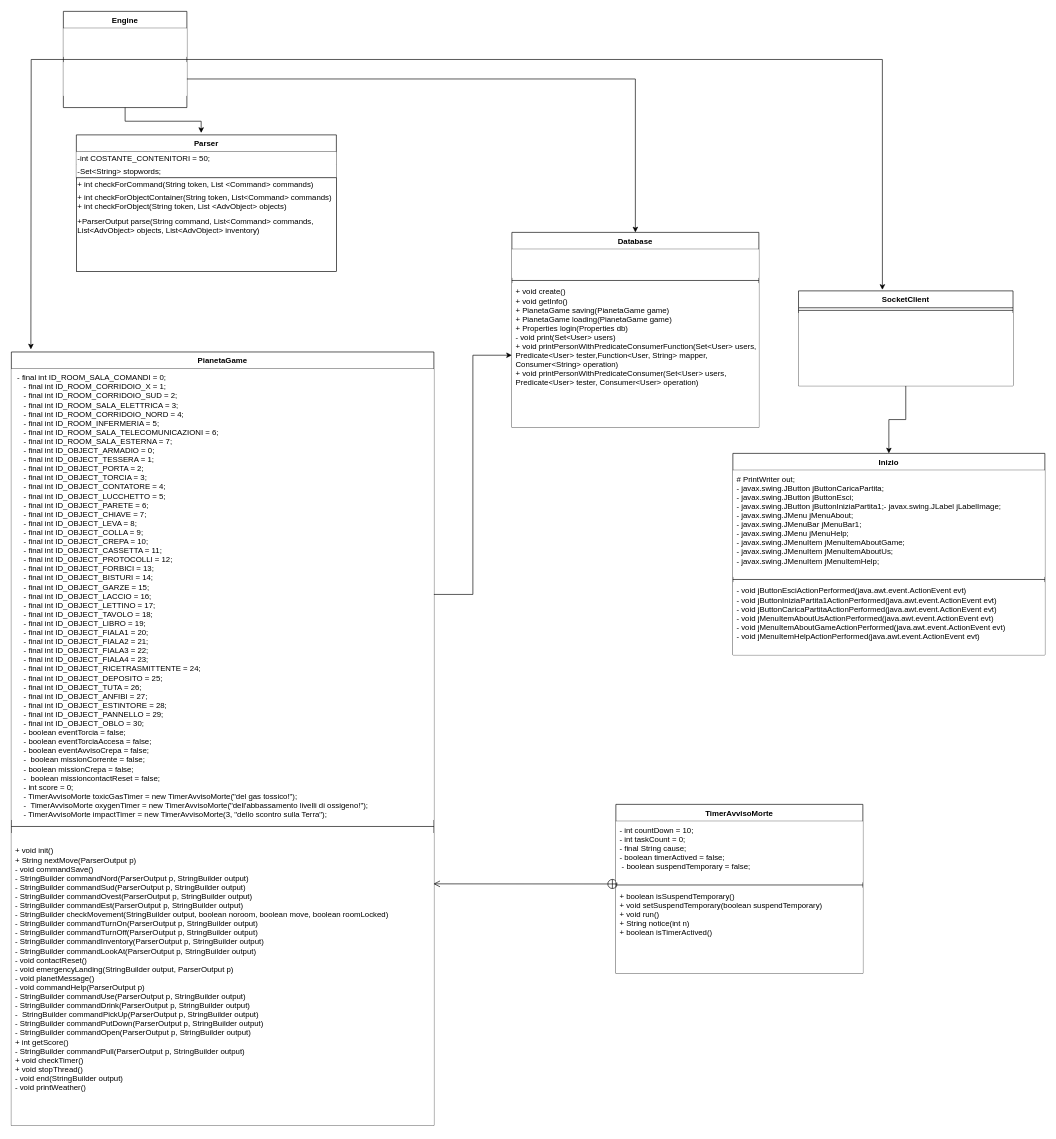
This 1056x1139 diagram has some shape labels left out. Each missing label, with the centre of its shape:
"+ void execute() + int socket() + void description()" goes at point 125,79.
"+ void main(String args[])" goes at point 905,349.
"+final String CREATE_TABLE; + final Connection conn;" goes at point 635,263.
"- GameDescription game; - Parser parser;" goes at point 125,42.
